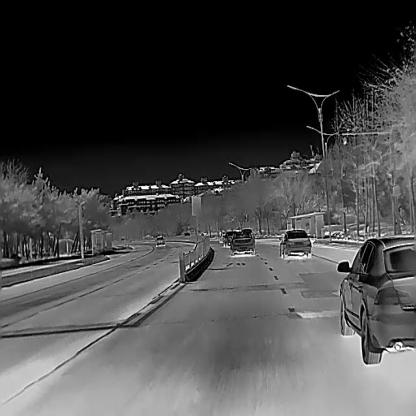car: (336, 233, 416, 363), (279, 229, 311, 259), (230, 230, 254, 255), (221, 231, 237, 247), (155, 236, 165, 245)
